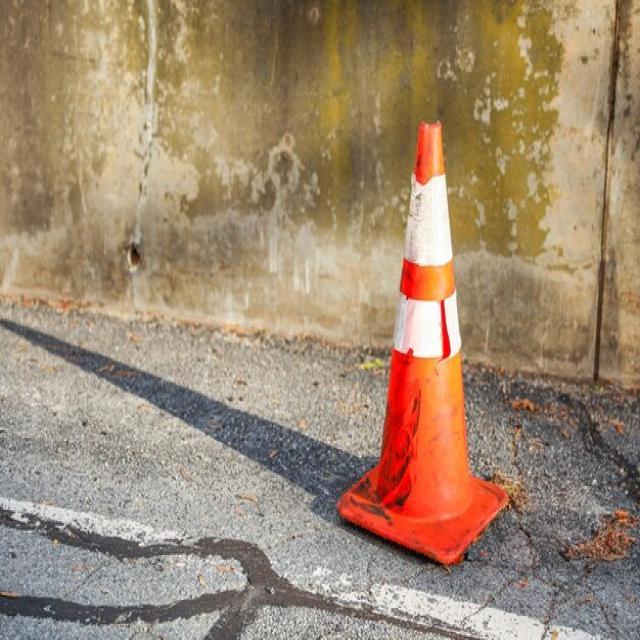Traffic Cone: (315, 64, 545, 588)
